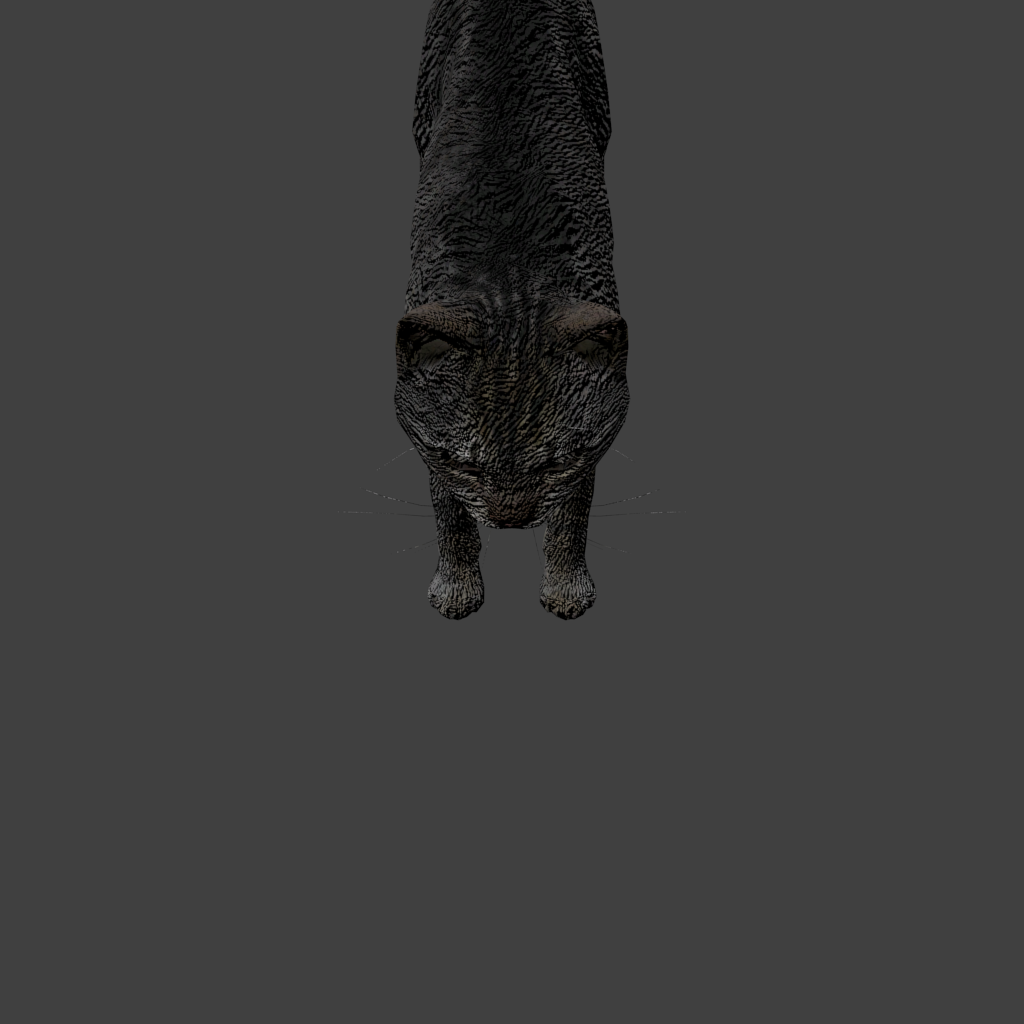Cat: (337, 0, 350, 620)
